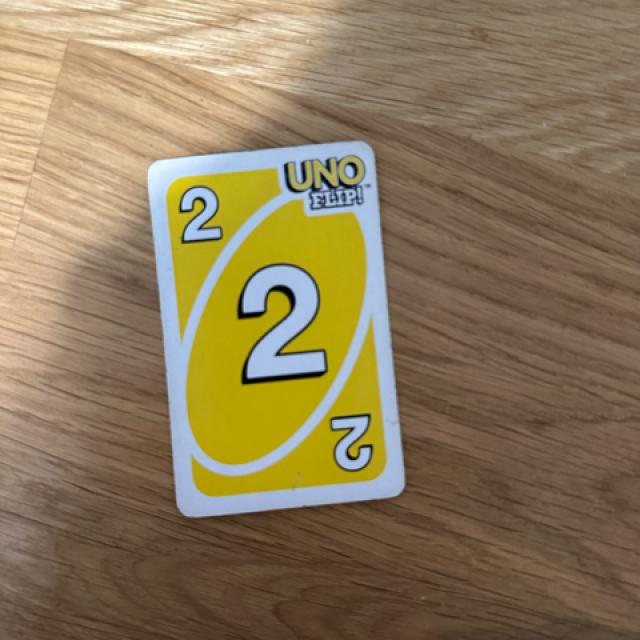lyellow-2: (160, 172, 235, 258)
